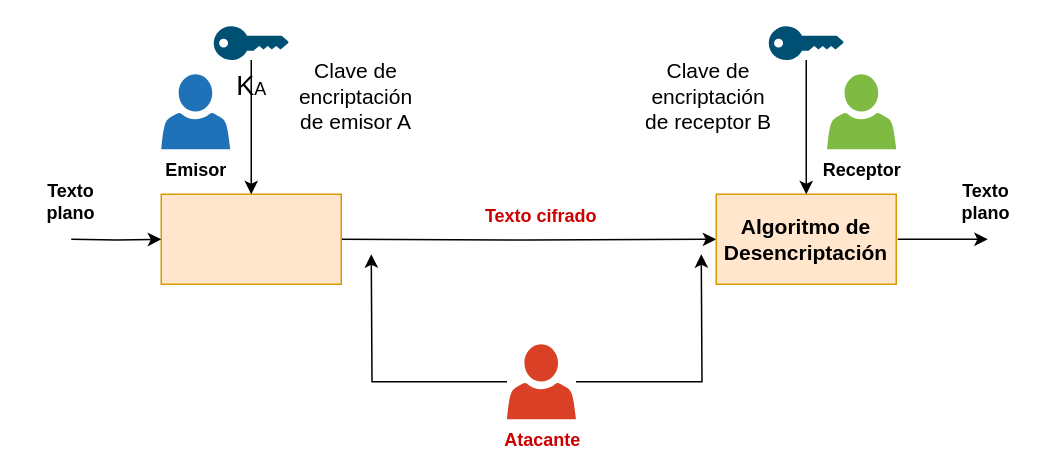
Some shapes in this 1056 by 476 pixel diagram are drawn without their labels. The shapes that lost their labels are listed below. From the top down, each one's centre as x and y in pixels, then its label:
point 805,42: K B
point 250,238: Algoritmo de Encriptación
